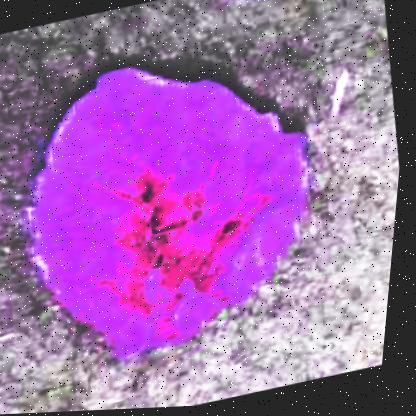Virus: (0, 22, 352, 383)
